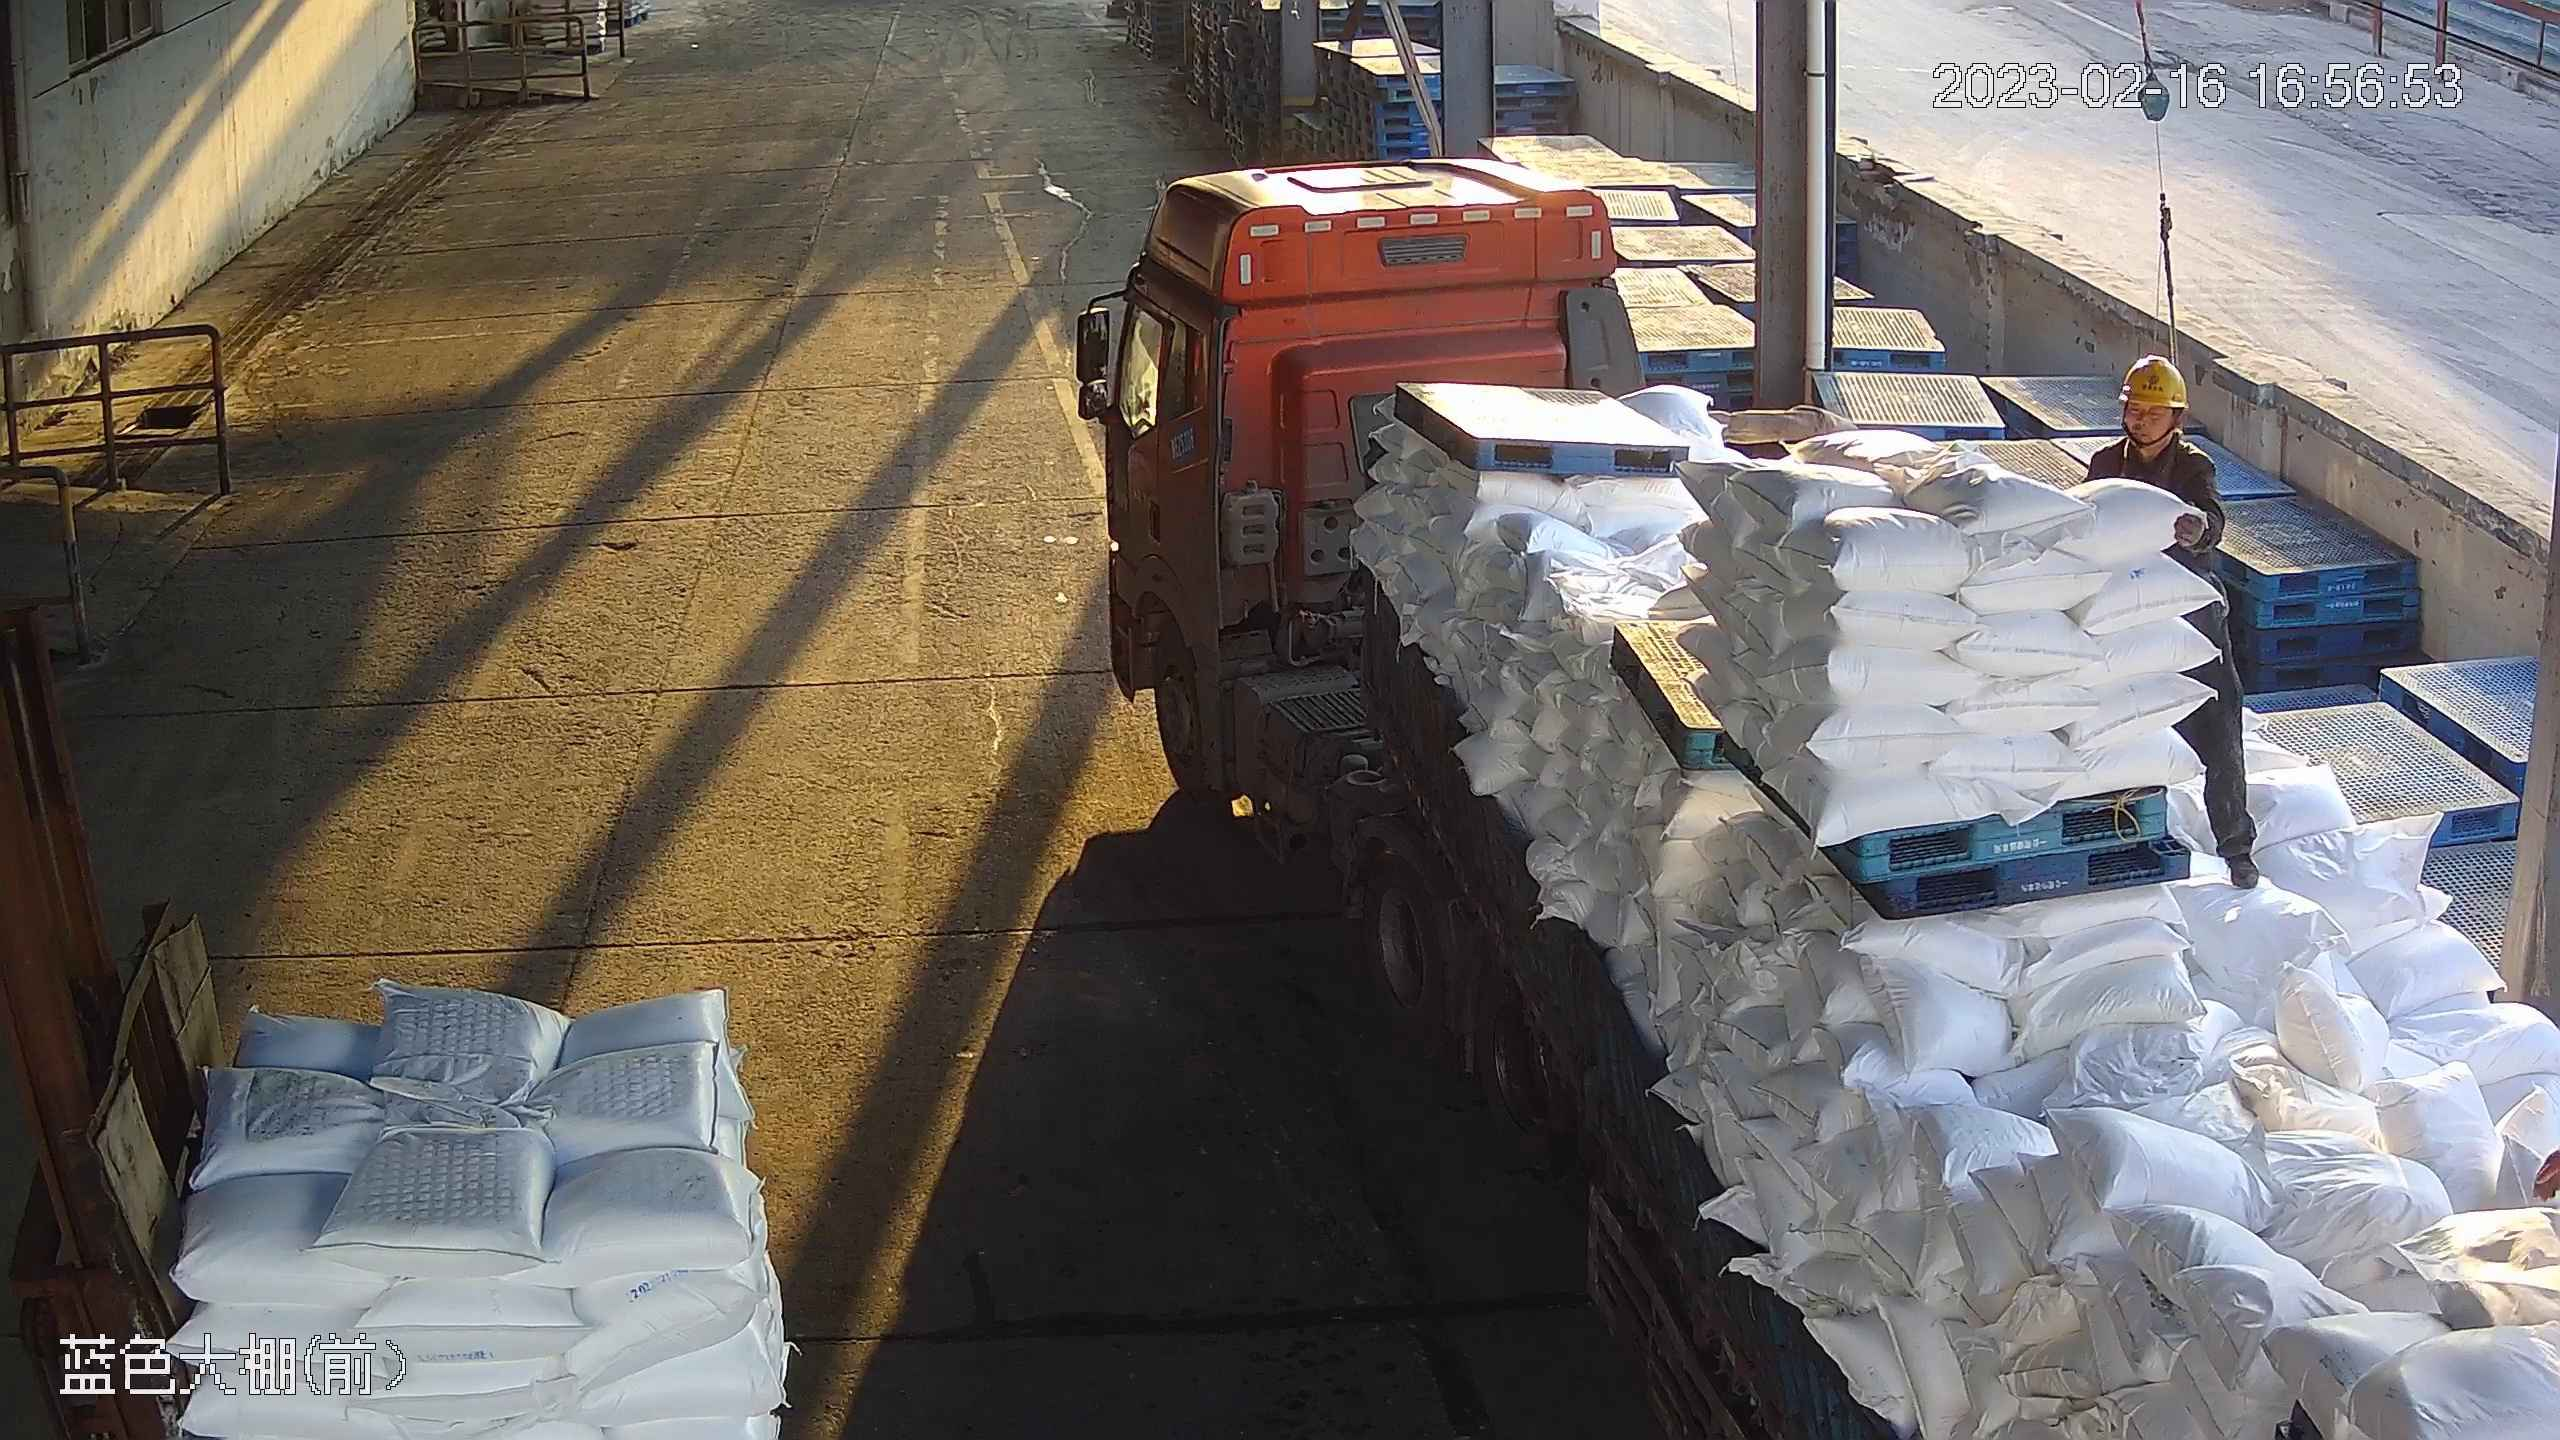head: (2092, 357, 2210, 492)
helmet: (2116, 347, 2207, 406)
truck: (1072, 160, 2560, 1440)
